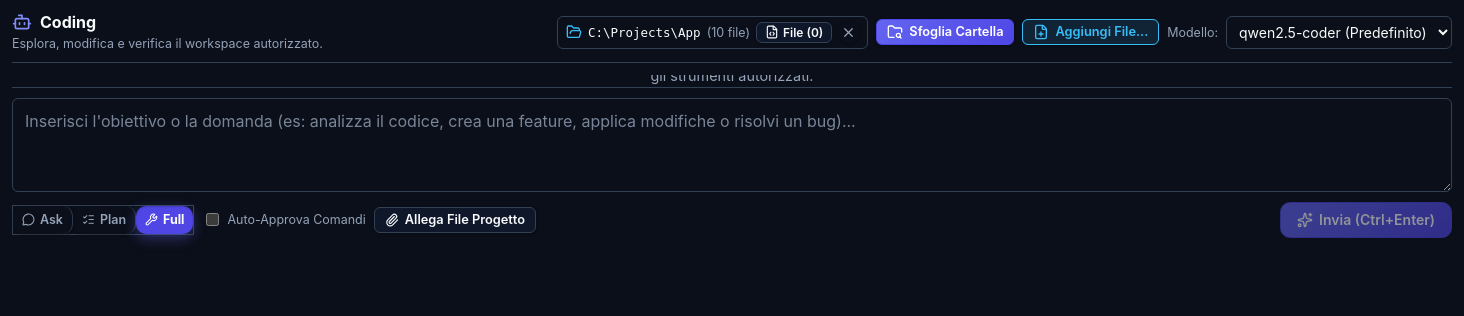
Test: CodingSection › allows clearing the selected workspace folder
(page scrolled)
Expected: the text "C:\\Projects\\App" is shown, [588,24,701,40]
What coordinates should you click on to do the following:
click the button named "Disassocia cartella"
I would click on:
 (849, 32)
Its box is [838,22,859,42].
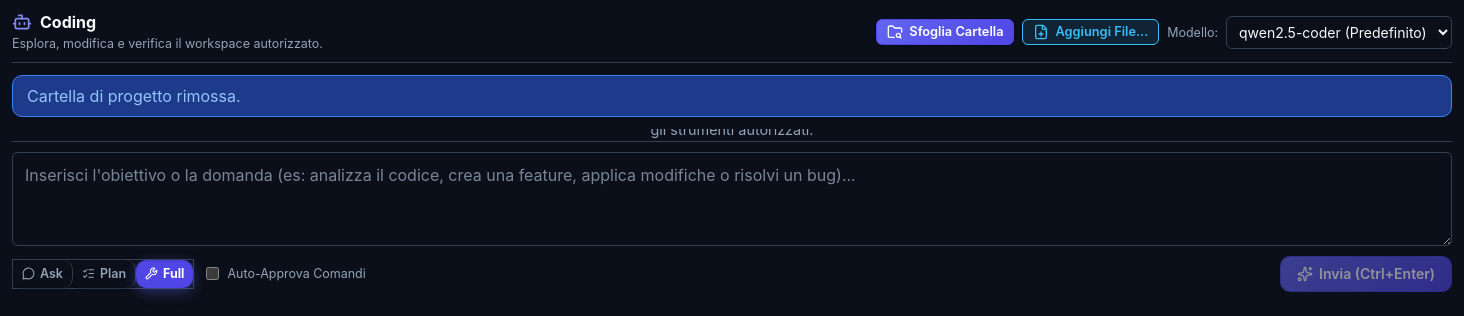
Result: the text "C:\\Projects\\App" is gone
Result: the text "Cartella di progetto rimossa." is shown at [12,75,1452,117]
